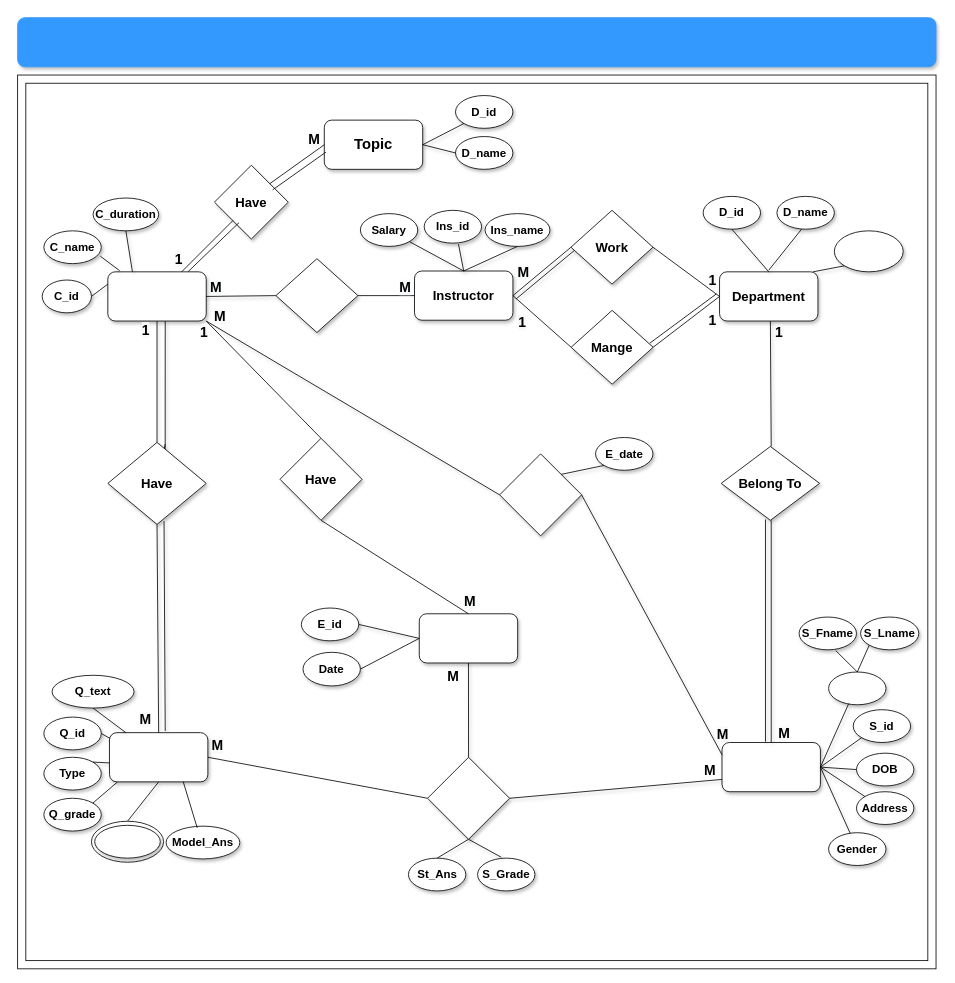
Some shapes in this 955 by 983 pixel diagram are drawn without their labels. The centre of each missing label's shape, as x and y in pixels:
"Choices" belongs at (x=128, y=842).
"Course" belongs at (x=157, y=297).
"Enroll" belongs at (x=541, y=496).
"Exam" belongs at (x=469, y=639).
"Examination System ERD" belongs at (x=477, y=43).
"Mng_ Hiredate" belongs at (x=869, y=252).
"Question" belongs at (x=159, y=758).
"S_name" belongs at (x=858, y=689).
"Student" belongs at (x=771, y=767).
"Take" belongs at (x=468, y=799).
"Teach" belongs at (x=317, y=296).
